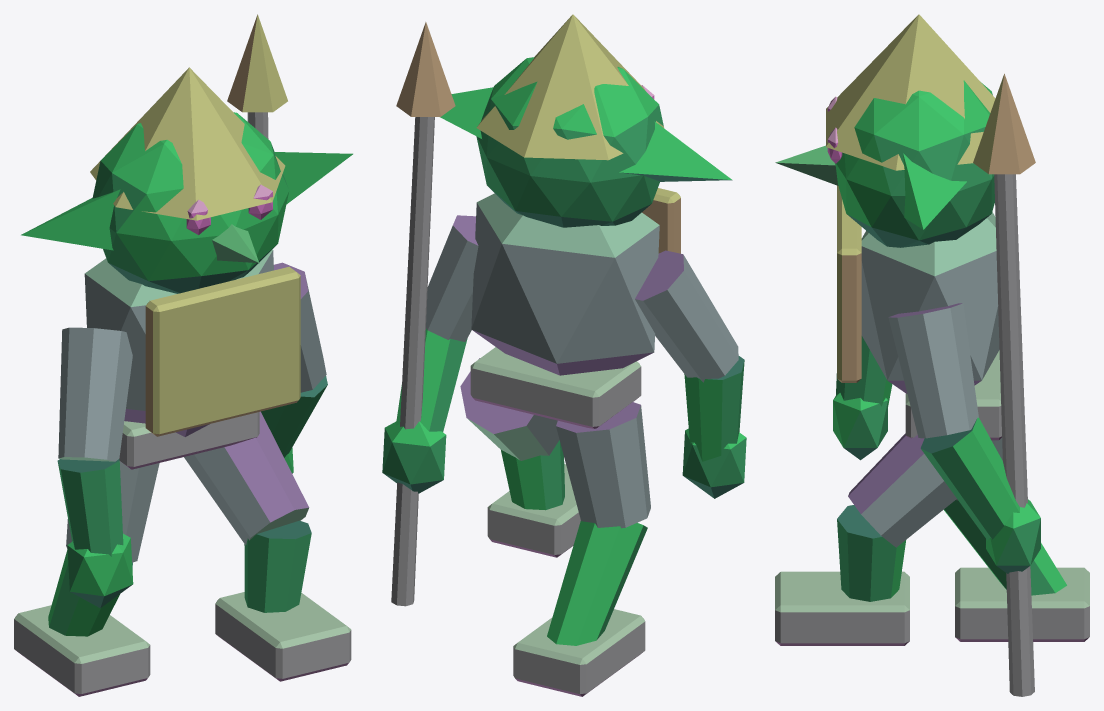
The model's file is creature_goblin_raider_passing_b_v01.glb.
3 renders of one model, left to right at view 1: azimuth 30°, elevation 25°; view 2: azimuth 150°, elevation 25°; view 3: azimuth 270°, elevation 25°, orthographic. The views are drawn at different scales.
Parts seen in each view (by area): view 1: GEO_creature_goblin_raider_passing_b_v01; view 2: GEO_creature_goblin_raider_passing_b_v01; view 3: GEO_creature_goblin_raider_passing_b_v01.
Part boxes in pixels (<box>): GEO_creature_goblin_raider_passing_b_v01: <box>14,14,352,696</box>; GEO_creature_goblin_raider_passing_b_v01: <box>382,14,746,696</box>; GEO_creature_goblin_raider_passing_b_v01: <box>775,14,1089,696</box>.
Bounding box in the file's own units: 0.88 × 1.57 × 0.7.
